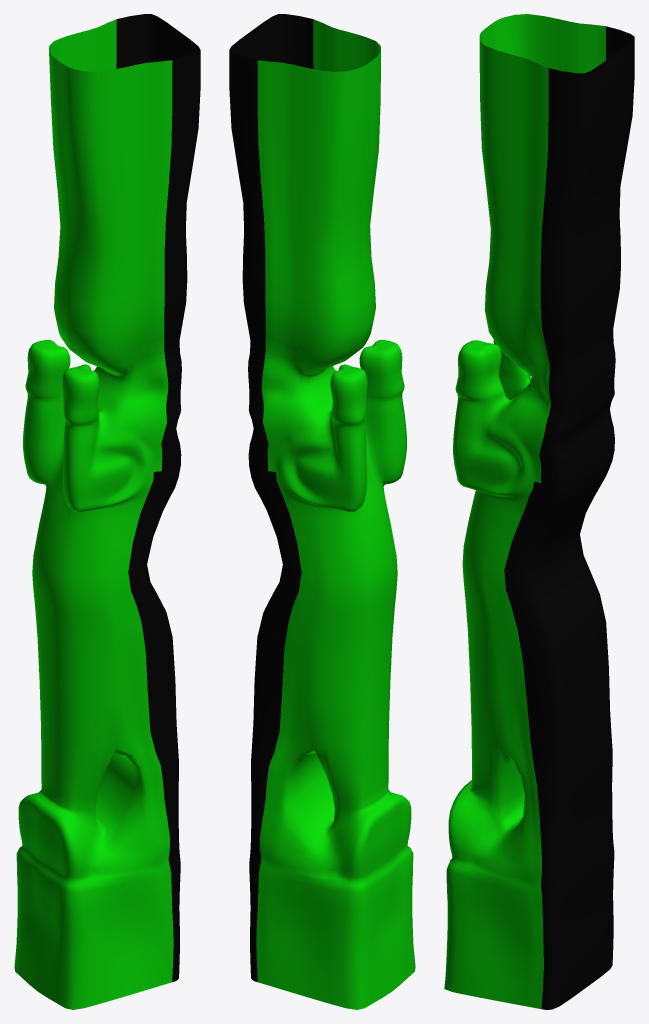
File: tudal.fbx
3 renders of one model, left to right at view 1: azimuth 30°, elevation 25°; view 2: azimuth 150°, elevation 25°; view 3: azimuth 330°, elevation 25°, orthographic. The views are drawn at different scales.
Parts seen in each view (by area): view 1: polySurface1; view 2: polySurface1; view 3: polySurface1.
Boxes of the visible parts, <box> form: polySurface1: <box>14,14,200,1009</box>; polySurface1: <box>229,14,415,1009</box>; polySurface1: <box>444,14,634,1009</box>.
Bounding box in the file's own units: 3.16 × 19.81 × 2.45.
